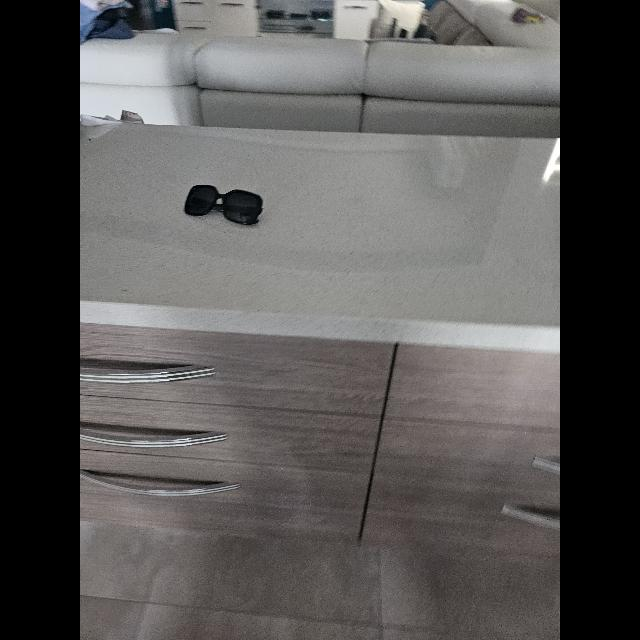Sunglasses: (185, 185, 263, 225)
